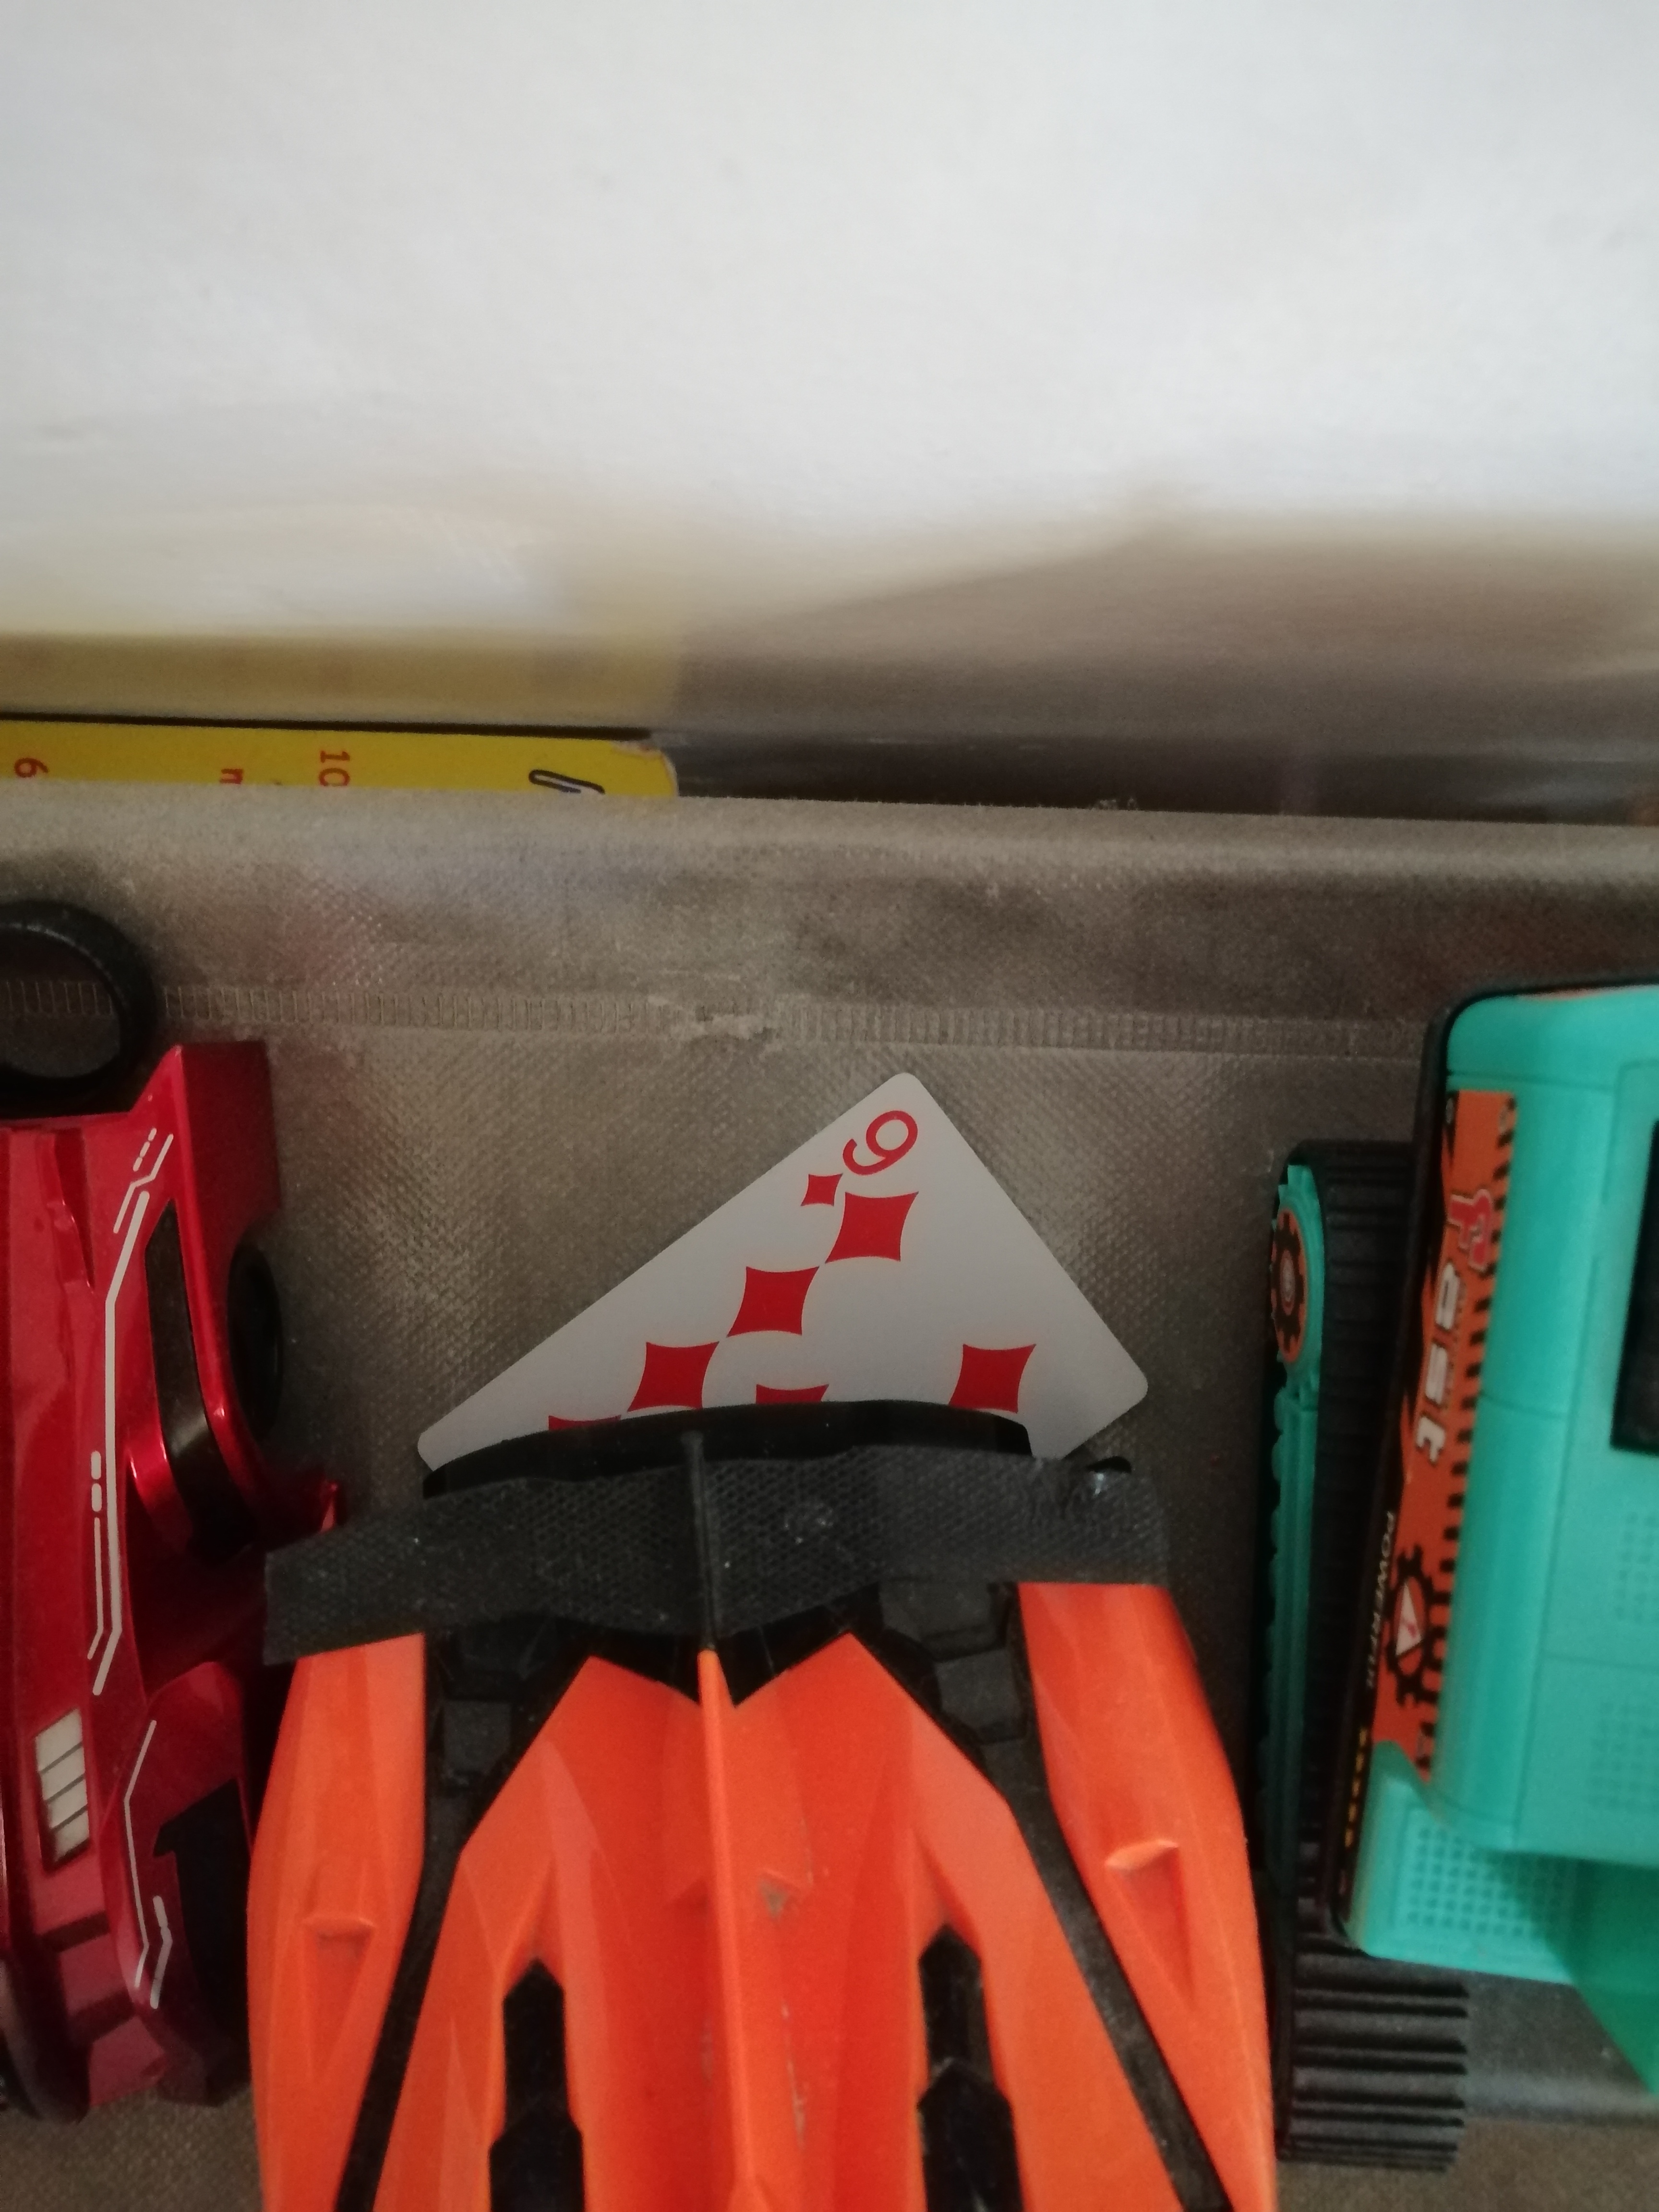nine: (380, 1049, 1145, 1480)
